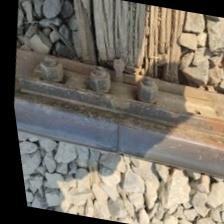person: (89, 110, 144, 158), (115, 72, 129, 86)
